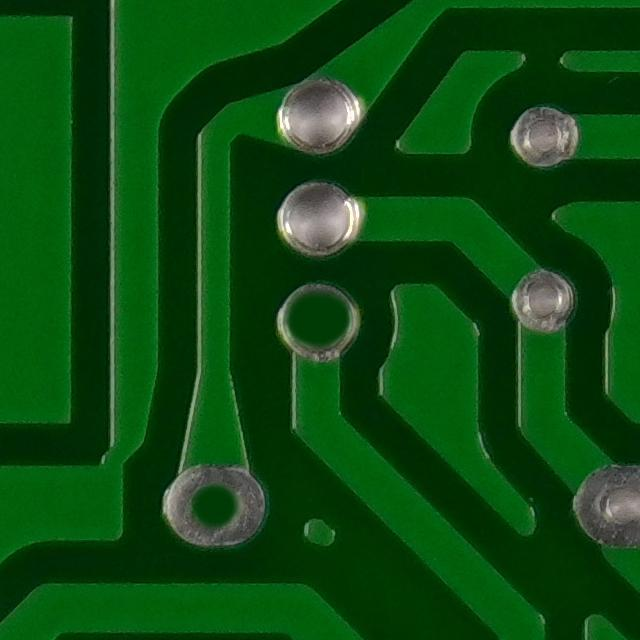missing_hole: (275, 278, 366, 362)
